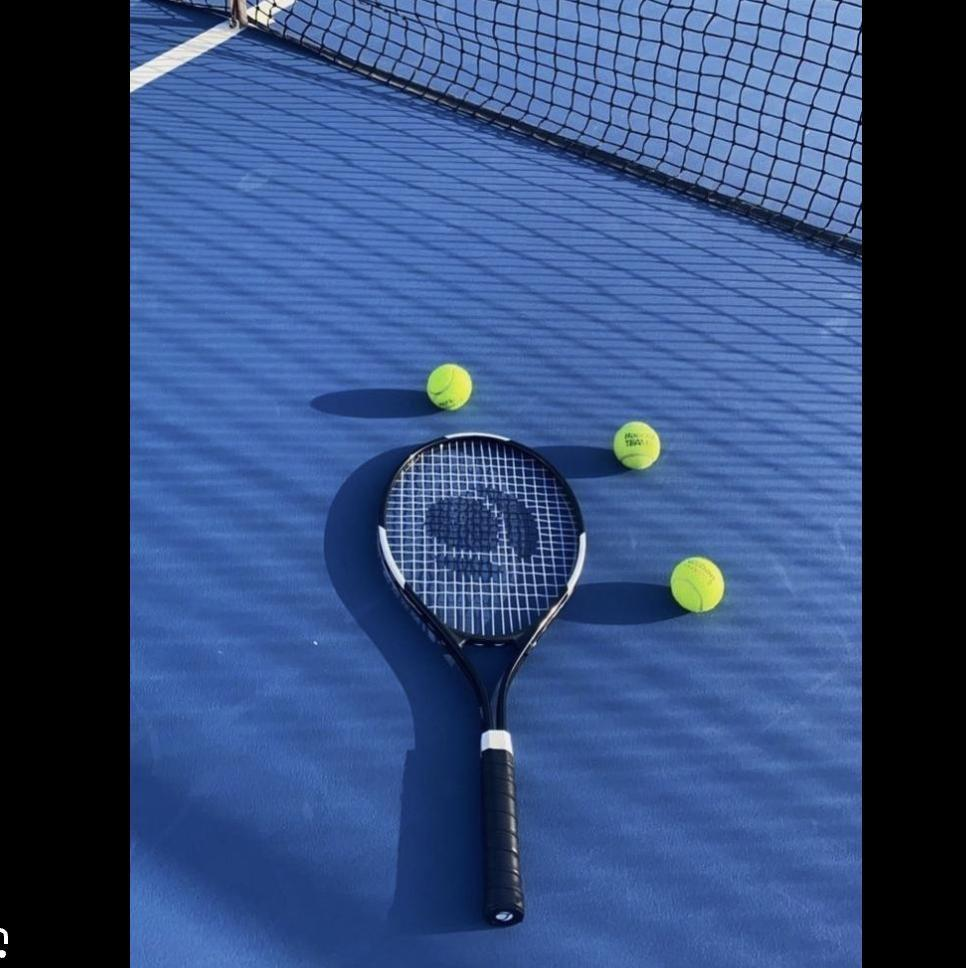Tennis-Racket: (378, 433, 586, 926)
